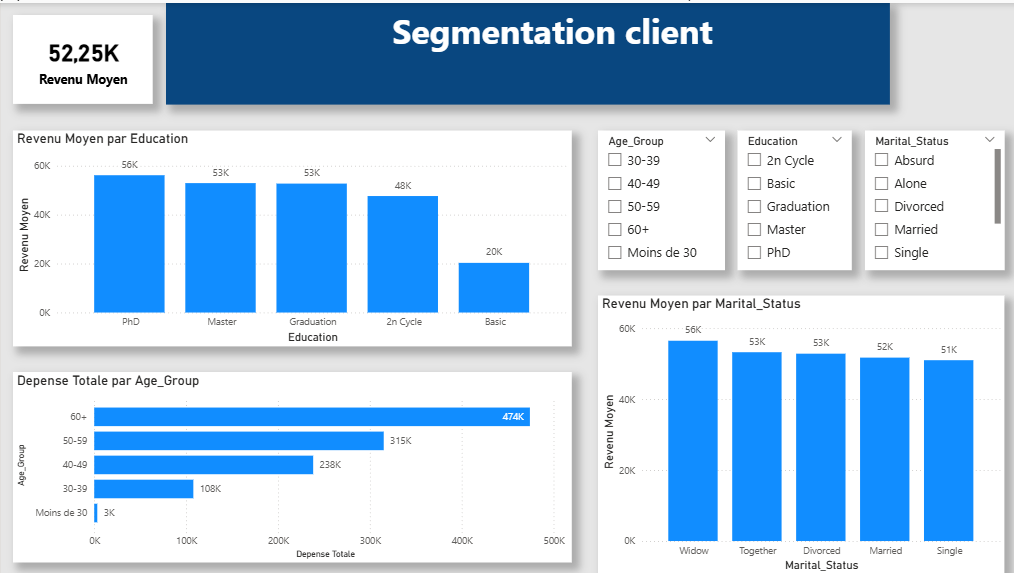

Layout of this report page (visuals, bound fields, positions):
{"tool":"powerbi","page":{"name":"SEGMENTATION CLIENT","canvas":[1280,720],"ordinal":1},"visuals":[{"type":"card","fields":{"Values":["marketing_campaign.Revenu Moyen"]},"box":[16,16,176,112],"z":0},{"type":"columnChart","fields":{"Category":["marketing_campaign.Education"],"Y":["marketing_campaign.Revenu Moyen"]},"box":[16,160,704,272],"z":1000},{"type":"columnChart","fields":{"Category":["marketing_campaign.Marital_Status"],"Y":["marketing_campaign.Revenu Moyen"]},"box":[752,368,512,352],"z":2000},{"type":"clusteredBarChart","fields":{"Category":["marketing_campaign.Age_Group"],"Y":["marketing_campaign.Depense Totale"]},"box":[16,464,704,240],"z":3000},{"type":"slicer","fields":{"Values":["marketing_campaign.Age_Group"]},"box":[752,160,160,176],"z":4000},{"type":"slicer","fields":{"Values":["marketing_campaign.Education"]},"box":[928,160,144,176],"z":5000},{"type":"slicer","fields":{"Values":["marketing_campaign.Marital_Status"]},"box":[1088,160,176,176],"z":6000},{"type":"textbox","box":[208,0,912,128],"z":7000}]}

Visuals, with their boxes in screenshot pixels (x1, y1, x2, y2), scaled from the page's 1280x720 canvas onto the 1014x573 screenshot:
card - marketing_campaign.Revenu Moyen: Rect(13, 13, 152, 102)
columnChart - marketing_campaign.Education x marketing_campaign.Revenu Moyen: Rect(13, 127, 570, 344)
columnChart - marketing_campaign.Marital_Status x marketing_campaign.Revenu Moyen: Rect(596, 293, 1001, 572)
clusteredBarChart - marketing_campaign.Age_Group x marketing_campaign.Depense Totale: Rect(13, 369, 570, 560)
slicer - marketing_campaign.Age_Group: Rect(596, 127, 722, 267)
slicer - marketing_campaign.Education: Rect(735, 127, 849, 267)
slicer - marketing_campaign.Marital_Status: Rect(862, 127, 1001, 267)
textbox: Rect(165, 0, 887, 102)
